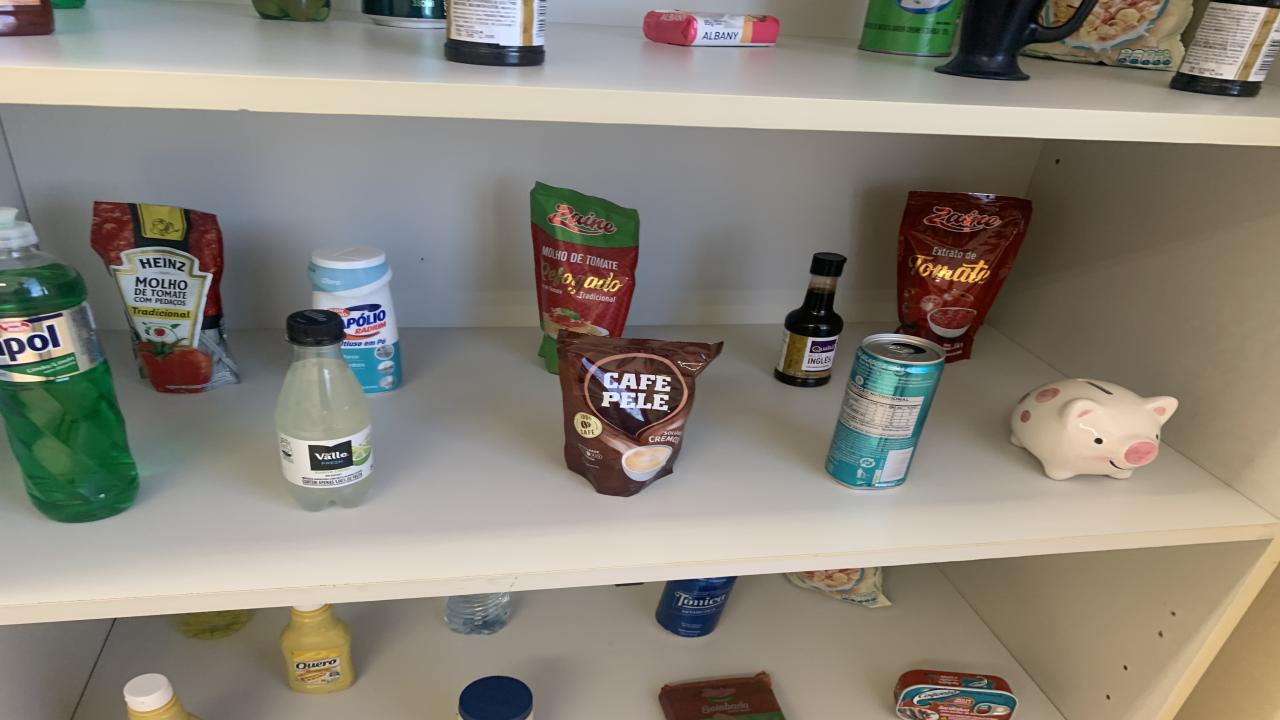Cleaner-Cleanup_Items: (308, 246, 402, 394)
Coffee-Pantry_Items: (558, 330, 722, 497)
Detergent-Cleanup_Items: (0, 208, 138, 523), (178, 609, 250, 639)
English_Sauce-Pantry_Items: (1170, 0, 1280, 98), (775, 251, 845, 386), (445, 0, 545, 66)
Flakes-Snacks: (1022, 0, 1192, 71), (788, 568, 890, 608), (1040, 0, 1080, 26)
Guarana-Drinks: (252, 0, 330, 22)
Guava-Snacks: (658, 671, 785, 720)
Mayonnaise-Pantry_Items: (458, 675, 532, 720)
Mustard-Pantry_Items: (280, 604, 355, 694), (122, 673, 198, 720)
Pig_Safe-Miscellaneous: (1010, 379, 1178, 480)
Pringles-Snacks: (860, 0, 962, 56)
Soap-Cleanup_Items: (642, 11, 780, 47)
Soda-Drinks: (275, 309, 372, 512)
Tea-Drinks: (825, 334, 945, 489)
Tomato_Sauce-Pantry_Items: (90, 202, 240, 394), (898, 191, 1032, 362), (530, 182, 640, 373)
Tonic-Drinks: (655, 576, 738, 638)
Tuna_Can-Pantry_Items: (895, 669, 1018, 720)
Water_Bottle-Drinks: (445, 592, 512, 634)
